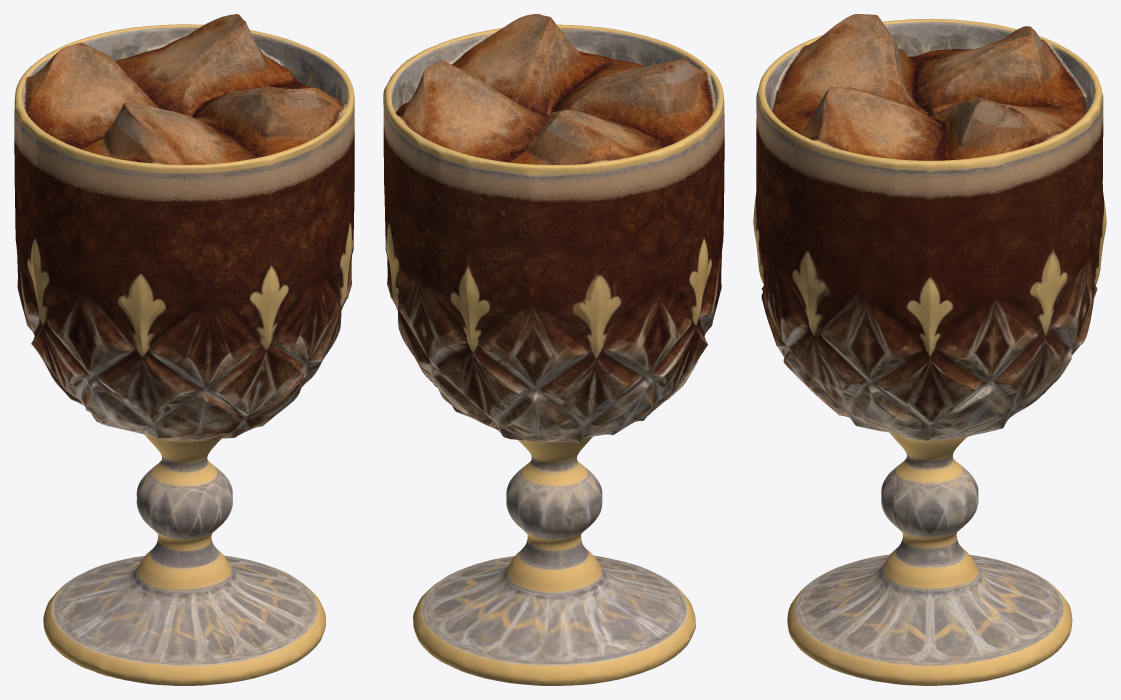
Rendered from 270b7935-e8de-45ca-aee3-afe611c3355a.glb.
3 renders of one model, left to right at view 1: azimuth 30°, elevation 25°; view 2: azimuth 150°, elevation 25°; view 3: azimuth 270°, elevation 25°, orthographic.
Size of the model in its own units: 1.06 by 1.9 by 1.06.
Materials: 1 (1 with a texture image).
